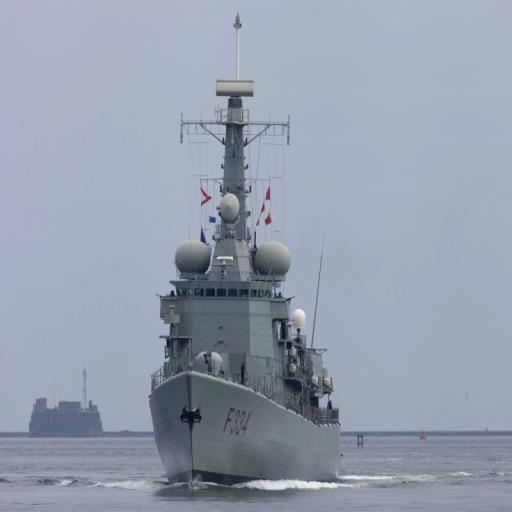Fragata: (150, 16, 347, 492)
